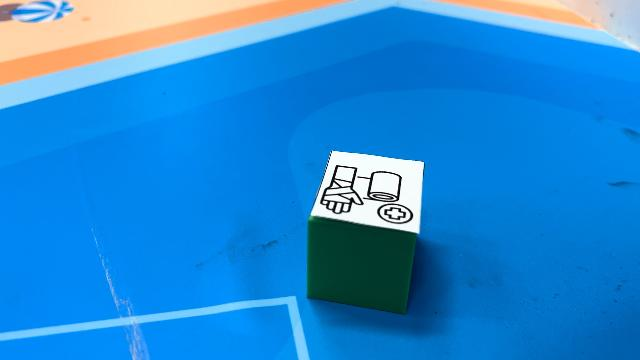bandage: (306, 150, 424, 314)
